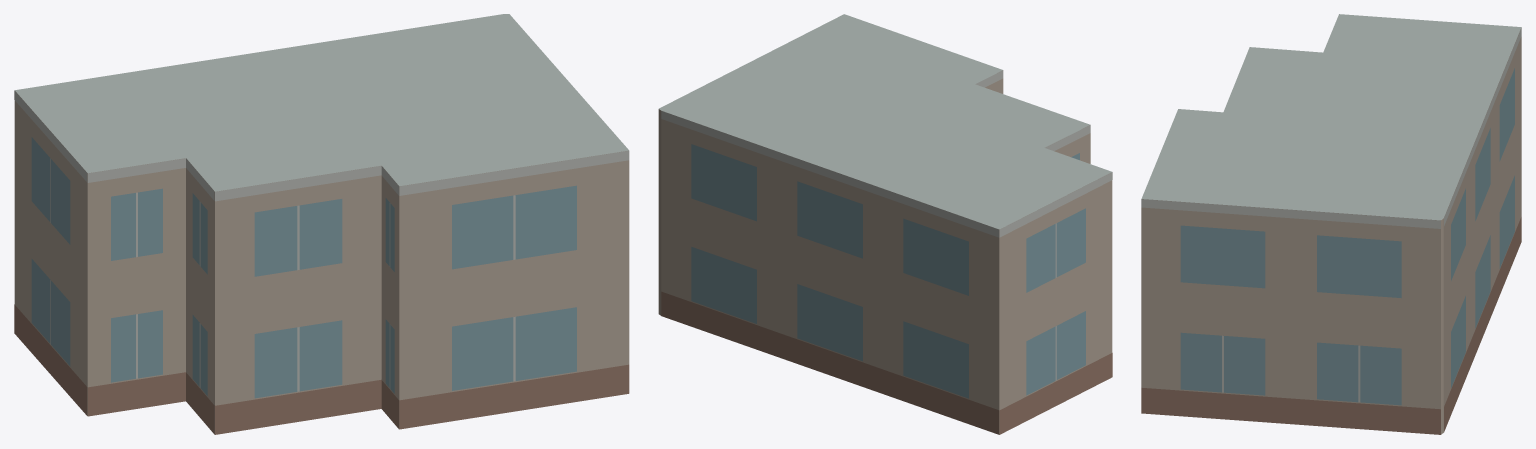
The model's file is survey-upis-32811972.glb.
3 views of the same model, side by side, from view 1: azimuth 30°, elevation 25°; view 2: azimuth 150°, elevation 25°; view 3: azimuth 270°, elevation 25° (orthographic). The views are drawn at different scales.
Parts seen in each view (by area): view 1: survey-upis-32811972.tmp; view 2: survey-upis-32811972.tmp; view 3: survey-upis-32811972.tmp.
Boxes of the visible parts, x1,y1,x2,y2 form: survey-upis-32811972.tmp: (14,14,629,434); survey-upis-32811972.tmp: (658,14,1112,434); survey-upis-32811972.tmp: (1141,14,1521,434).
Bounding box in the file's own units: 12.6 × 6.1 × 9.81.
